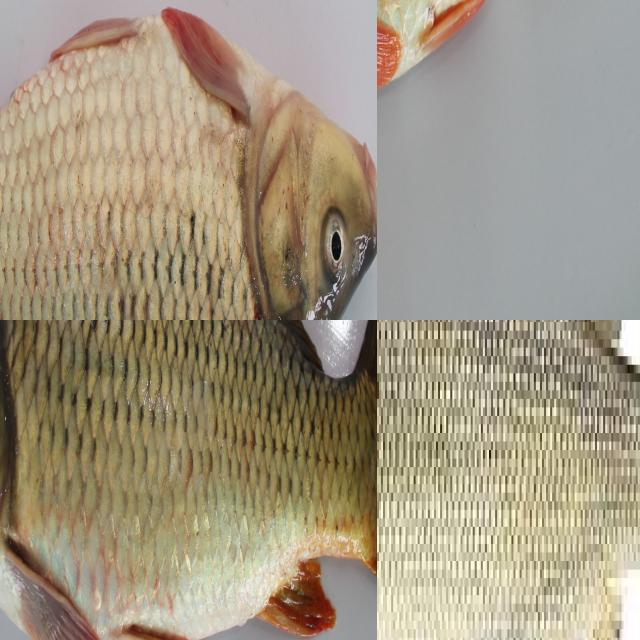fish: (0, 0, 377, 320), (0, 320, 377, 640), (377, 320, 640, 640), (377, 0, 640, 124)
